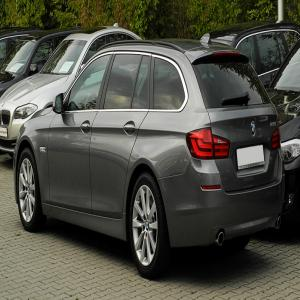Vehicle-registration-plate: (237, 147, 267, 171), (1, 127, 9, 138)
